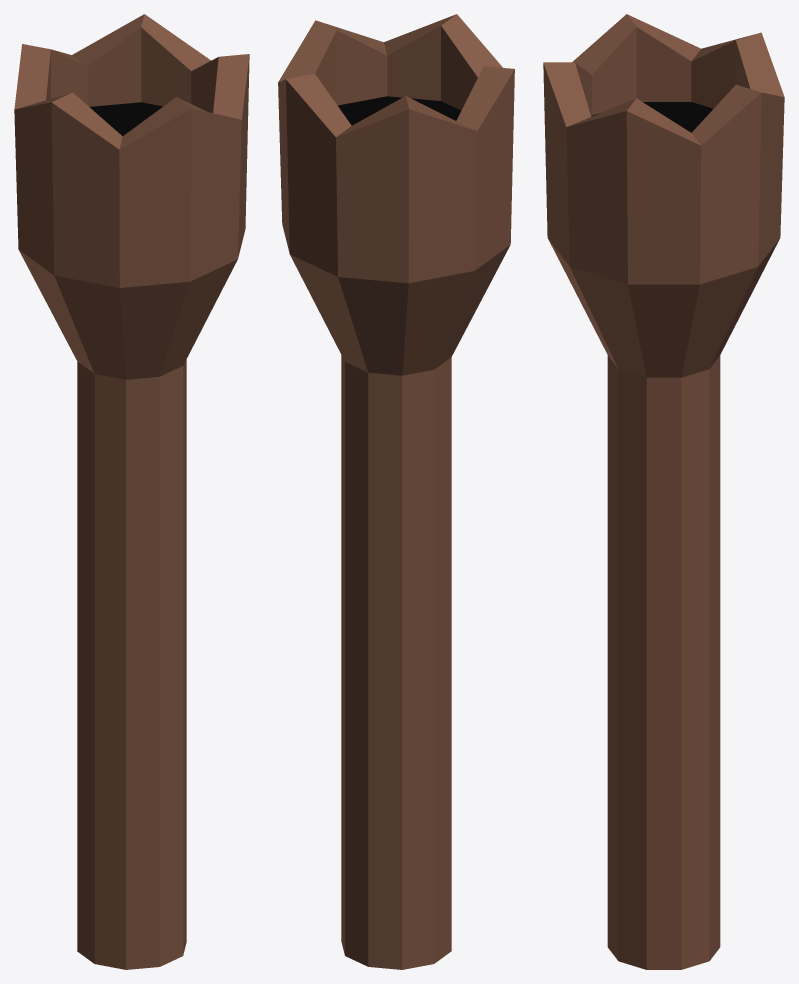
The model's file is Torch.fbx.
3 views of the same model, side by side, from view 1: azimuth 30°, elevation 25°; view 2: azimuth 150°, elevation 25°; view 3: azimuth 270°, elevation 25° (orthographic).
Visible parts, largest first — view 1: Torch; view 2: Torch; view 3: Torch.
Part boxes in pixels (x1,y1,x2,y2): Torch: (14, 14, 249, 969); Torch: (278, 14, 514, 969); Torch: (543, 14, 784, 969).
Size of the model in its own units: 59.57 by 253 by 62.63.
